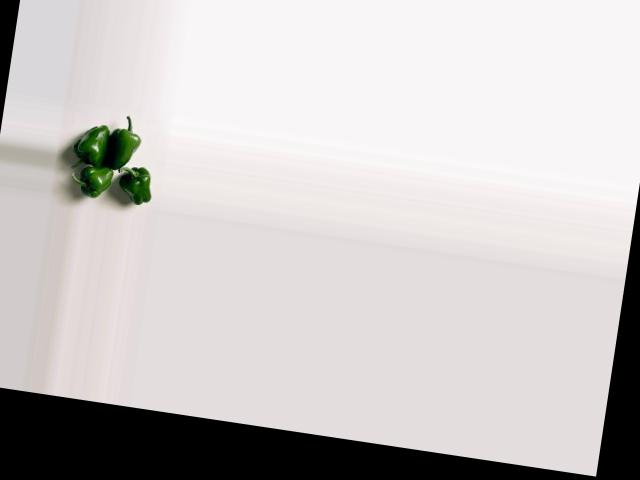bell_pepper: (70, 165, 116, 200)
